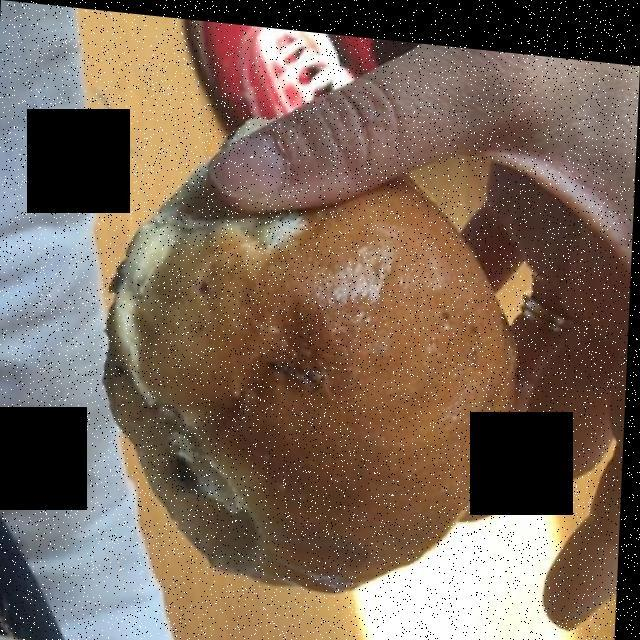bread: (103, 115, 516, 580)
